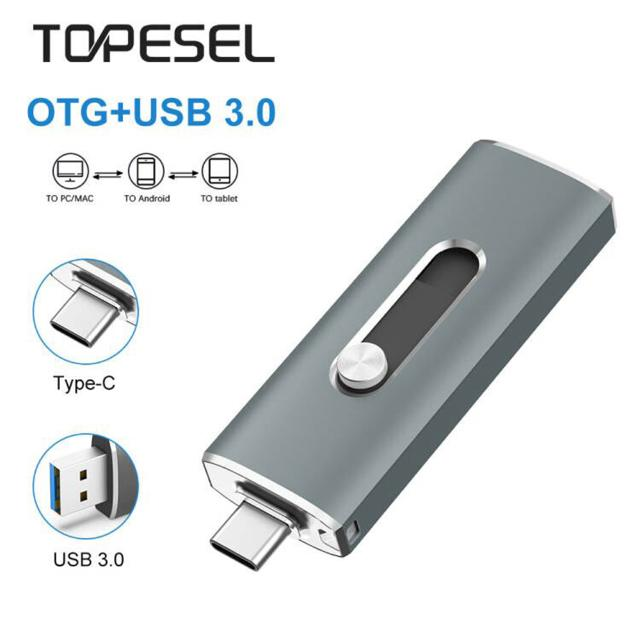USB-Flash-Drive: (202, 140, 618, 571)
